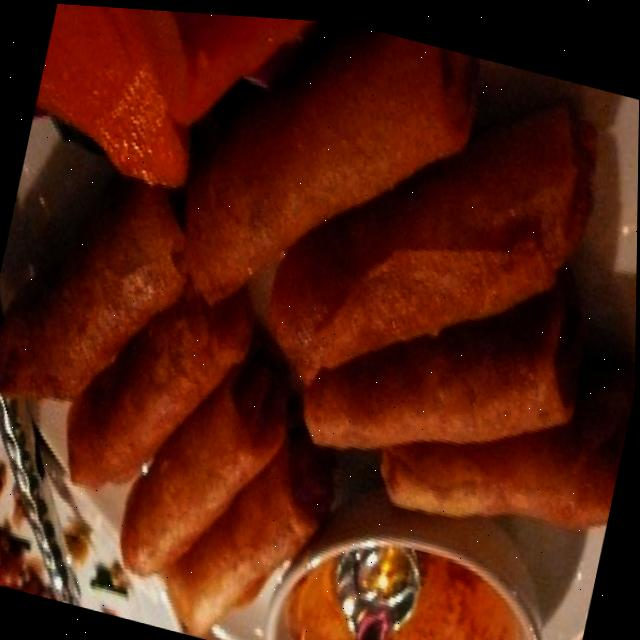鸡蛋料理: (0, 12, 640, 573)
